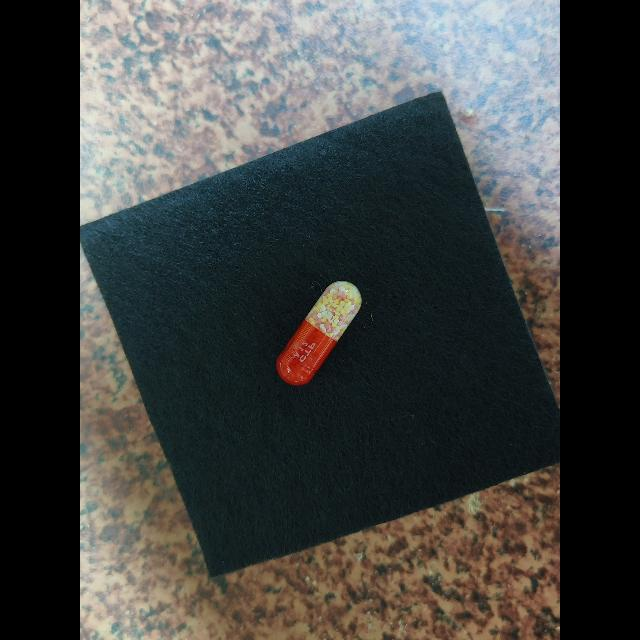Intact Capsule: (275, 281, 362, 386)
